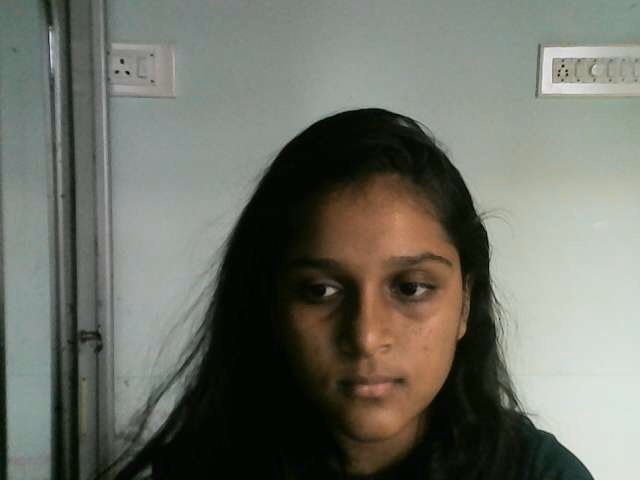face: (273, 173, 463, 439)
